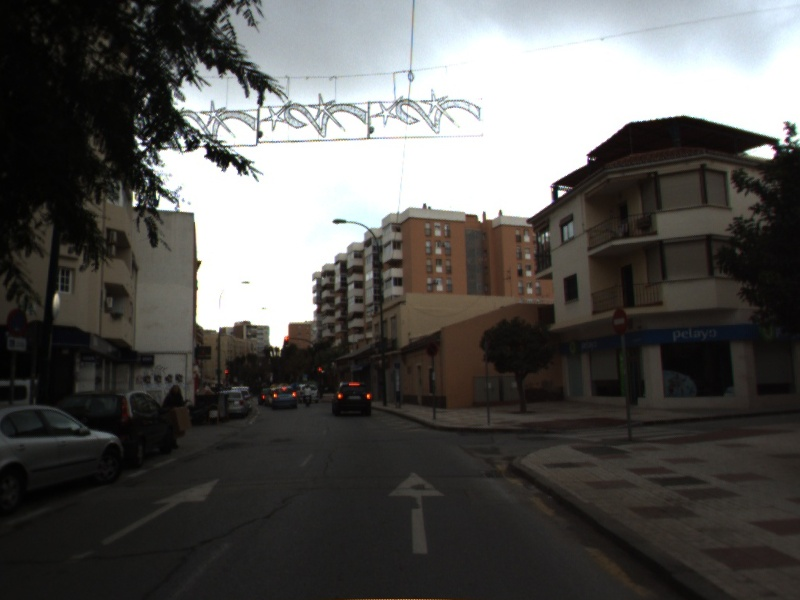STRAIGHT: (97, 473, 224, 547), (386, 467, 449, 557)
